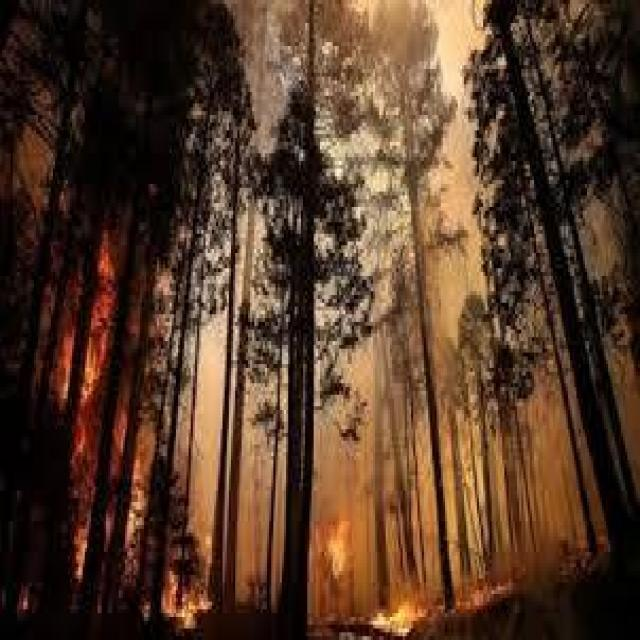Fire: (21, 201, 215, 640), (298, 514, 482, 640)
